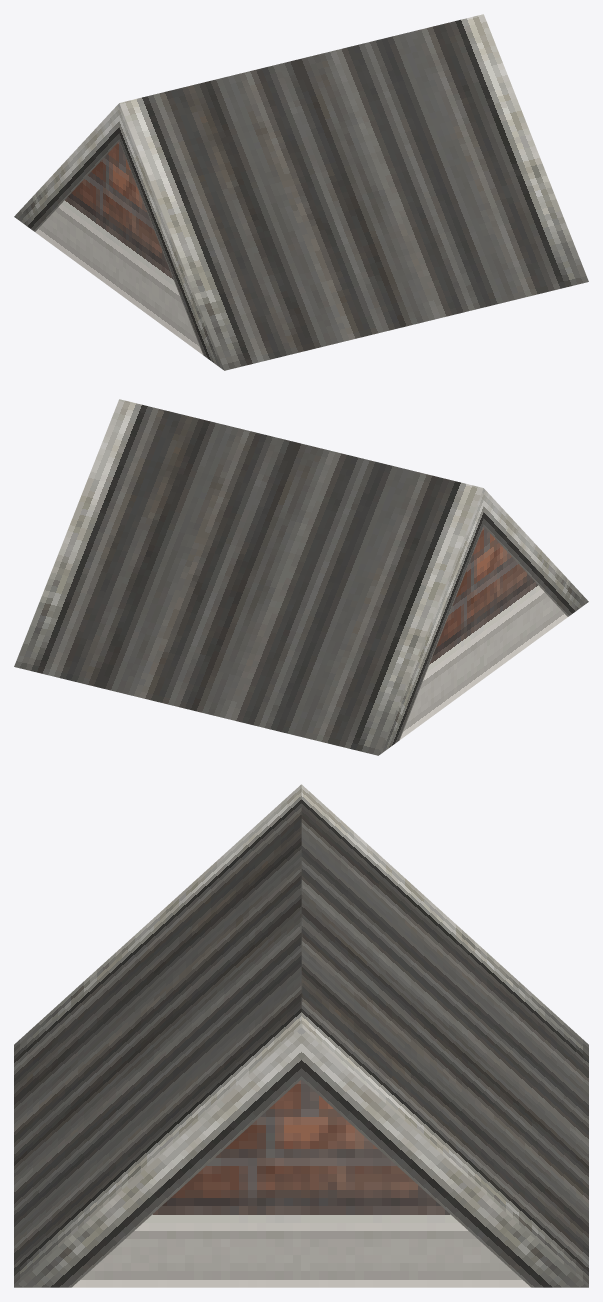
File: wall_a_roof.glb
3 renders of one model, top to bottom at view 1: azimuth 30°, elevation 25°; view 2: azimuth 150°, elevation 25°; view 3: azimuth 270°, elevation 25°, orthographic. The views are drawn at different scales.
Parts seen in each view (by area): view 1: wall-a-roof; view 2: wall-a-roof; view 3: wall-a-roof.
Part boxes in pixels (x1=…): wall-a-roof: x1=14, y1=14, x2=588, y2=370; wall-a-roof: x1=14, y1=399, x2=588, y2=755; wall-a-roof: x1=14, y1=784, x2=588, y2=1287.
Bounding box in the file's own units: 1 × 0.5 × 1.
Materials: 3 (3 with a texture image).
